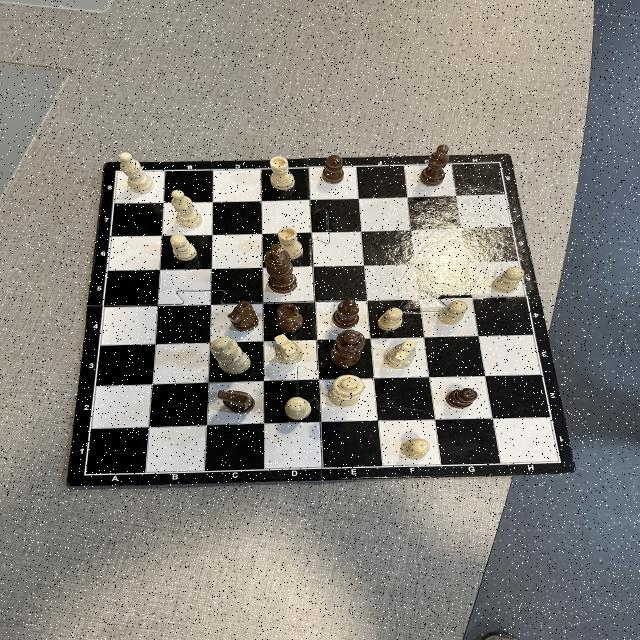Black-Bishop: (420, 144, 450, 186), (332, 298, 360, 328)
Black-King: (264, 244, 298, 294)
Black-Knight: (228, 300, 258, 332), (218, 390, 255, 414)
Black-Pawn: (446, 386, 477, 408), (322, 155, 344, 184)
Black-Queen: (330, 330, 366, 368)
Black-Rook: (276, 303, 304, 332)
White-Bishop: (120, 152, 154, 194), (171, 189, 203, 229)
White-King: (210, 336, 251, 374)
White-Knight: (384, 340, 416, 370), (273, 334, 303, 364)
White-Pawn: (492, 267, 524, 293), (438, 300, 468, 325), (170, 234, 197, 261), (284, 396, 312, 419), (401, 438, 429, 460), (378, 307, 403, 331)
White-Queen: (327, 374, 364, 408)
White-Rook: (277, 227, 304, 260), (270, 156, 296, 190)
